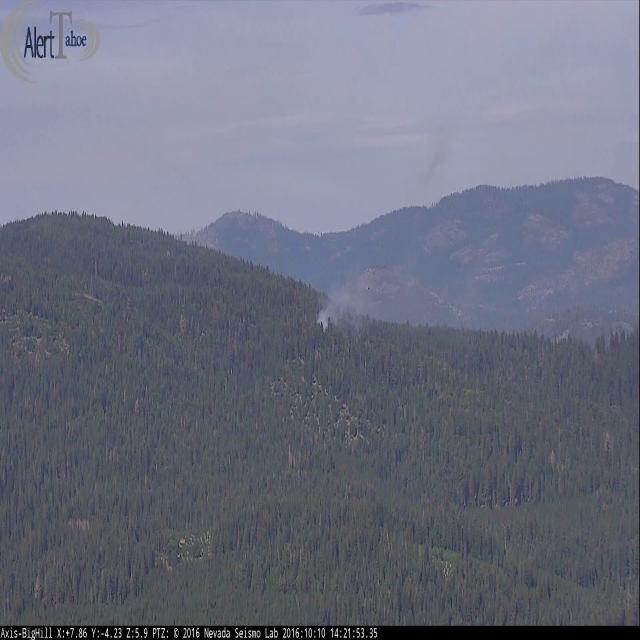smoke: (298, 112, 464, 351)
